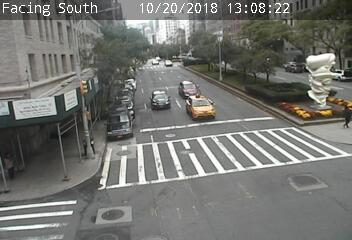car: (185, 99, 211, 119), (151, 89, 171, 108), (181, 82, 198, 96), (164, 60, 174, 67), (151, 60, 158, 65)
